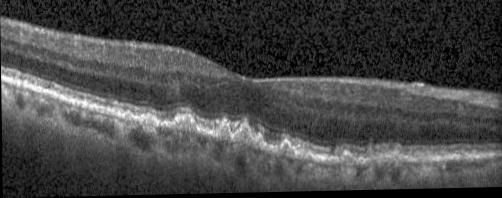retinal_drusen: (363, 141, 417, 168), (171, 114, 199, 134), (233, 125, 252, 149), (215, 118, 232, 142), (278, 140, 295, 156), (338, 151, 354, 165), (254, 133, 266, 150), (140, 112, 157, 123), (122, 110, 133, 120), (305, 154, 313, 164)
